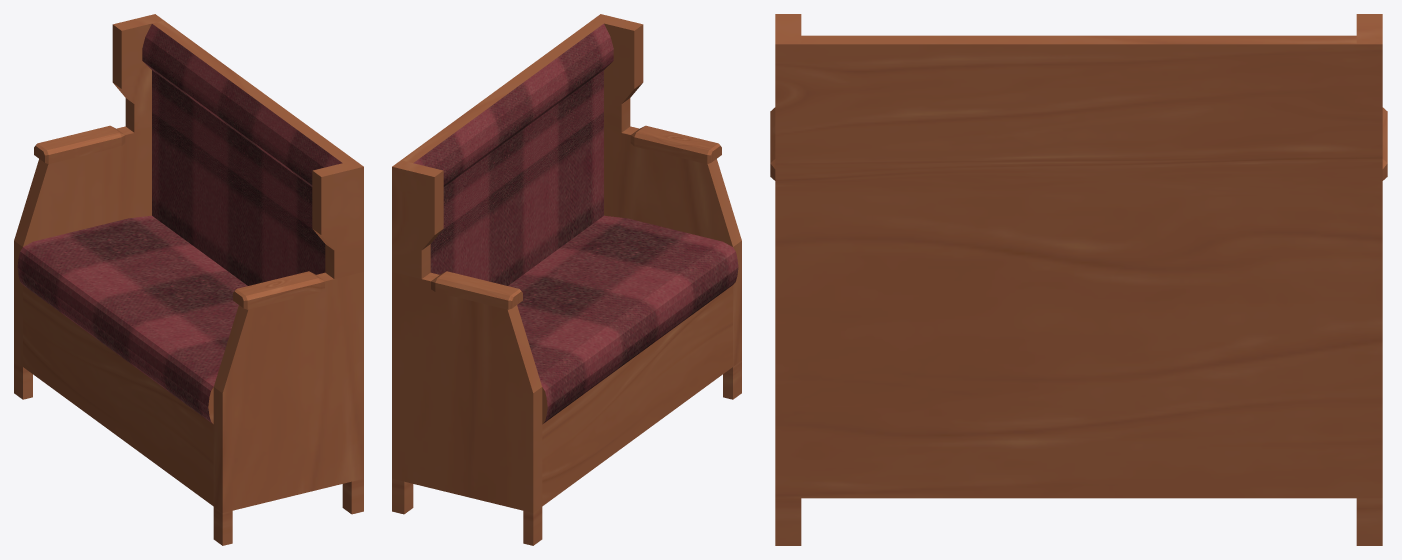
Rendered from Steam Train Chair_A_001.fbx.
3 views of the same model, side by side, from view 1: azimuth 30°, elevation 25°; view 2: azimuth 150°, elevation 25°; view 3: azimuth 270°, elevation 25° (orthographic). The views are drawn at different scales.
Parts seen in each view (by area): view 1: Steam_Train_Chair_A_001; view 2: Steam_Train_Chair_A_001; view 3: Steam_Train_Chair_A_001.
Part boxes in pixels (x1,y1,x2,y2): Steam_Train_Chair_A_001: (14,14,363,545); Steam_Train_Chair_A_001: (392,14,741,545); Steam_Train_Chair_A_001: (770,14,1387,545).
Bounding box in the file's own units: 37.81 × 84.88 × 94.64.
Materials: 2 (2 with a texture image).
